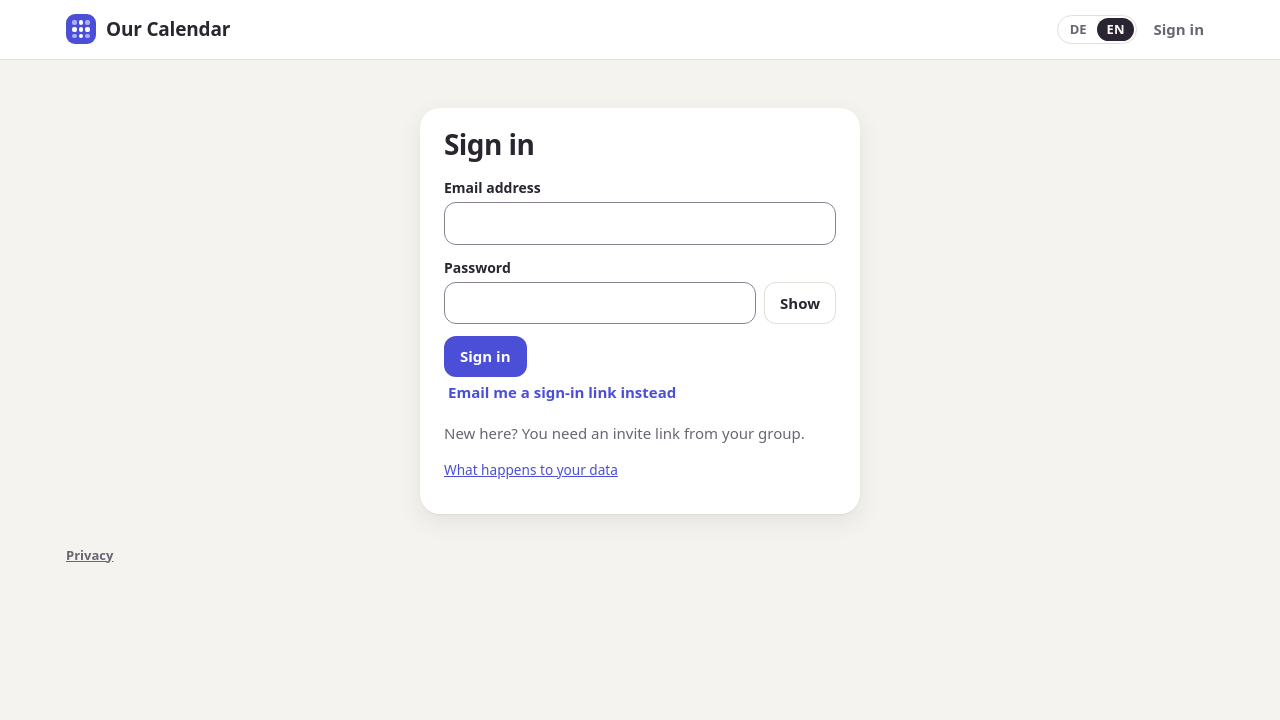
Test case: with mail, sign-in asks for email and password, or sends a link instead
Expected: the password field labelled "Password" is shown, [444,282,756,324]
Expected: the field labelled "Email address" is shown, [444,202,836,245]
Click the button "Email me a sign-in link instead": (562, 392) [444,377,680,407]
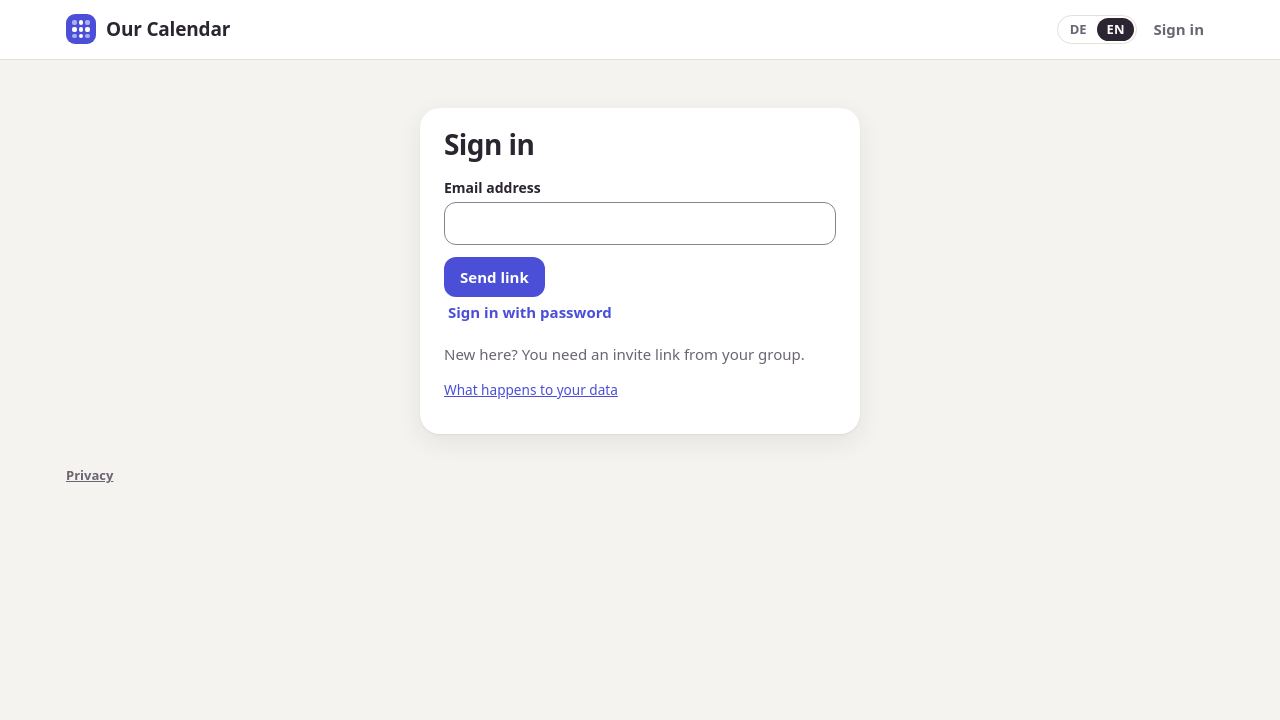
Expected: the button "Send link" is shown, [444,257,545,297]
Click the button "Sign in with password": (530, 312) [444,297,616,328]
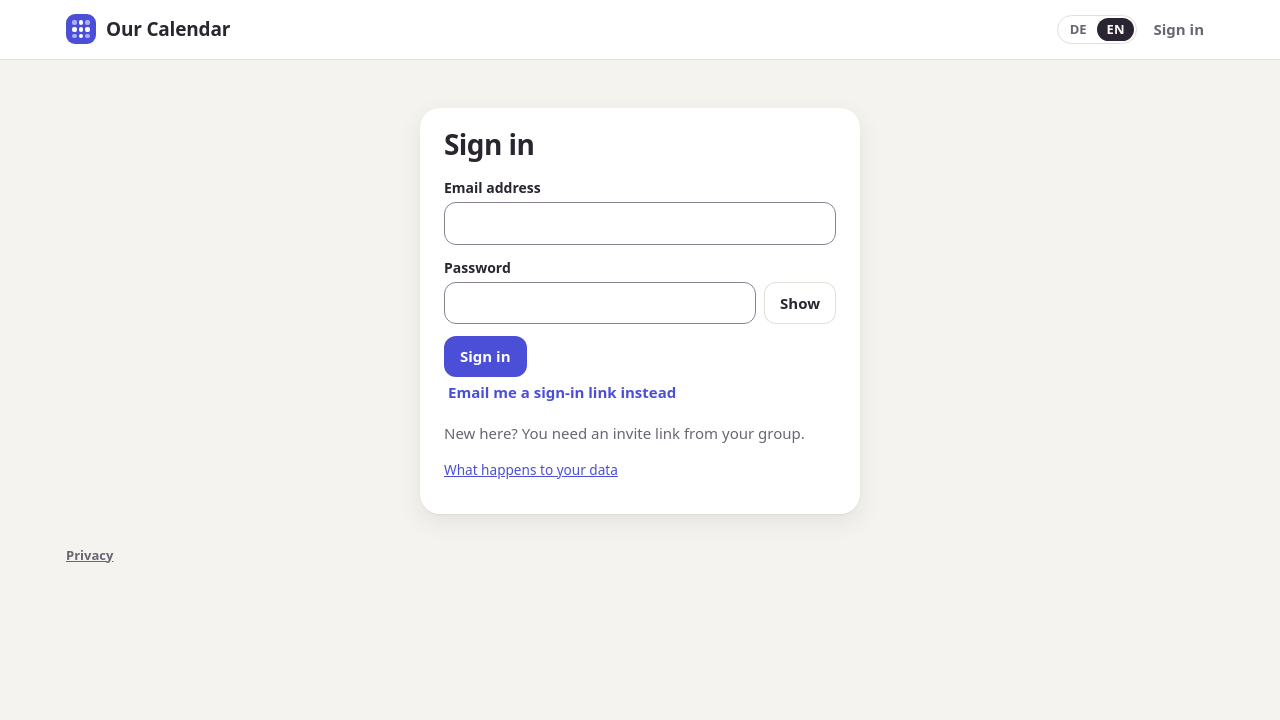
Expected: the password field labelled "Password" is shown, [444,282,756,324]
